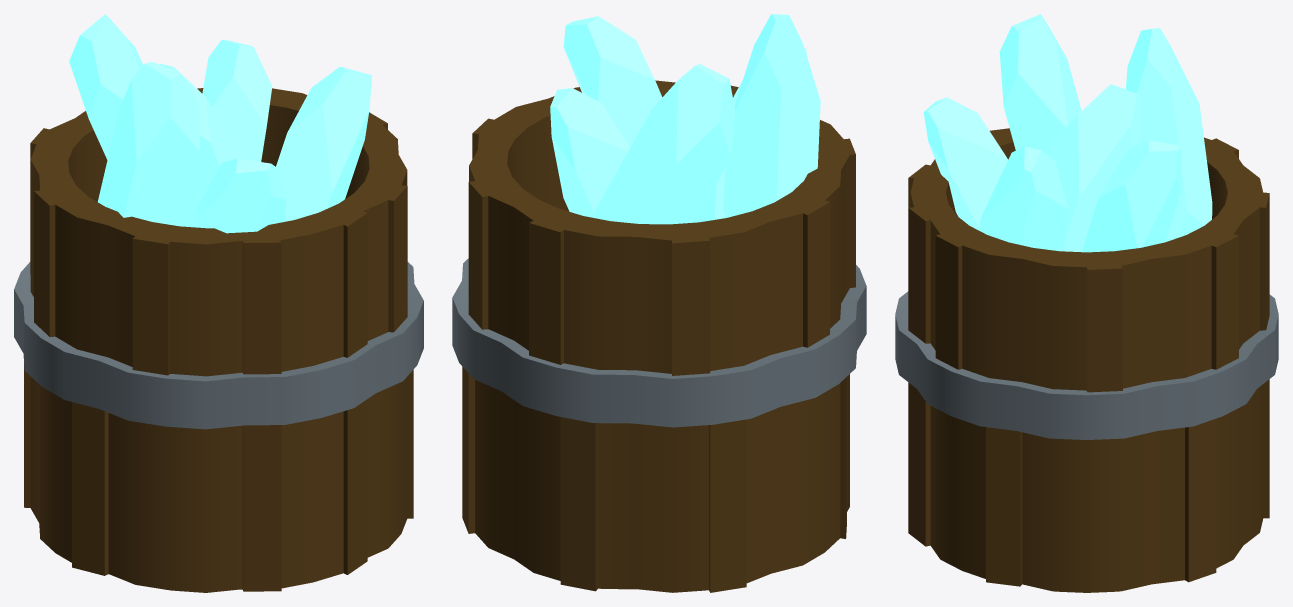
File: Crystal_Bucket.fbx
3 views of the same model, side by side, from view 1: azimuth 30°, elevation 25°; view 2: azimuth 150°, elevation 25°; view 3: azimuth 270°, elevation 25° (orthographic). The views are drawn at different scales.
Visible parts, largest first — view 1: Crystal_Bucket; view 2: Crystal_Bucket; view 3: Crystal_Bucket.
Part boxes in pixels (box(x1,y1,x2,y2)): Crystal_Bucket: box(14, 14, 423, 592); Crystal_Bucket: box(452, 14, 866, 592); Crystal_Bucket: box(895, 14, 1278, 592).
Size of the model in its own units: 1008 by 1401 by 1008.
